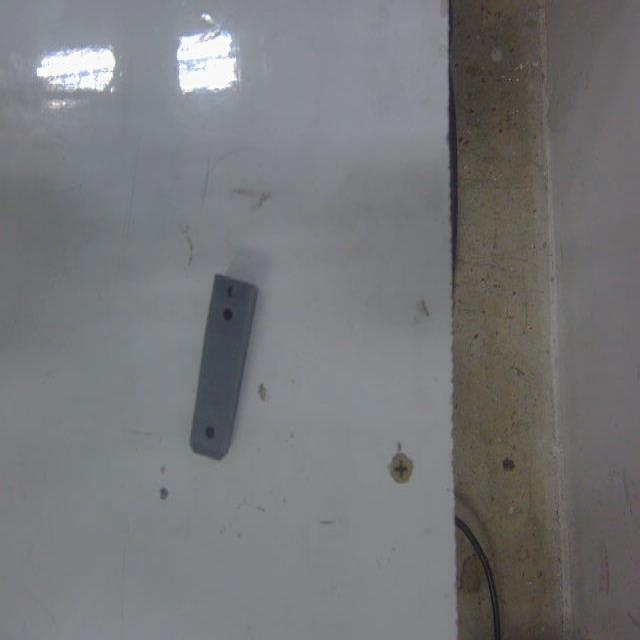grey: (191, 270, 256, 460)
head: (202, 422, 220, 443)
